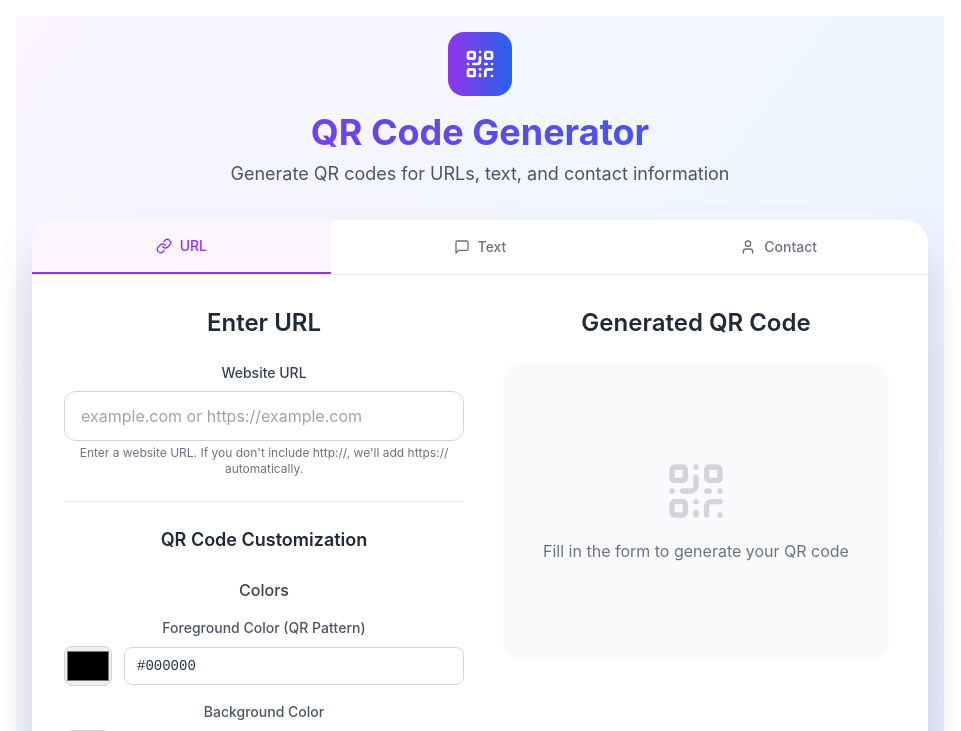
Test: QRCodeGenerator Integration Tests › Contact Tab › should switch to contact tab
Step 1. Click the button "Contact" → click(779, 247), box [629,220,928,274]
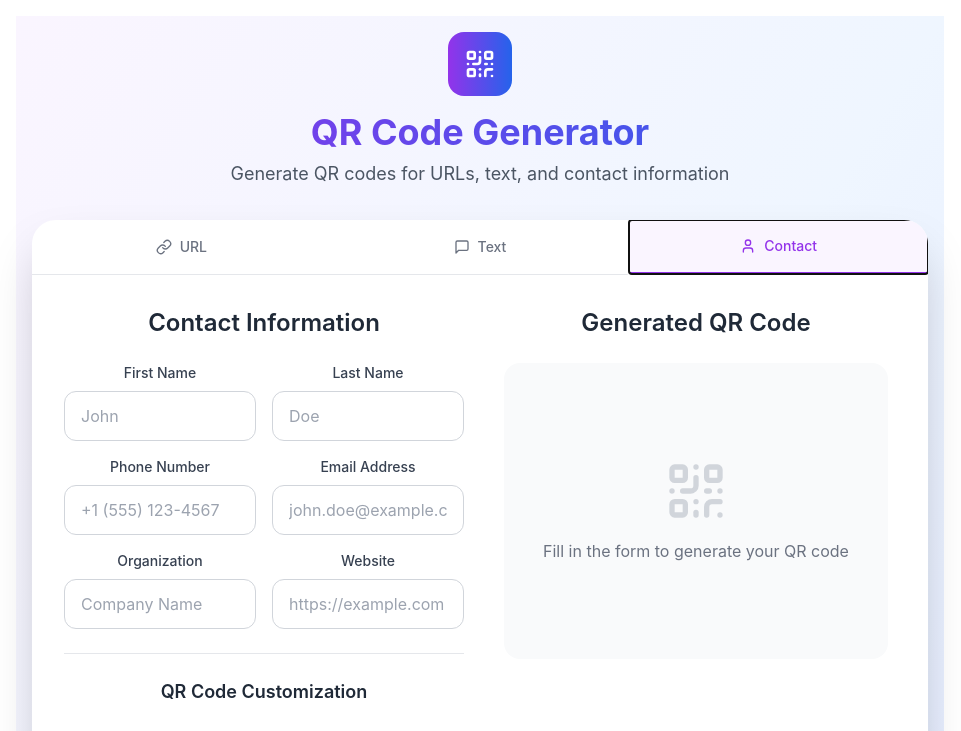
Now the field with placeholder "John" is shown, box [64,391,256,441]
Now the field with placeholder "Doe" is shown, box [272,391,464,441]
